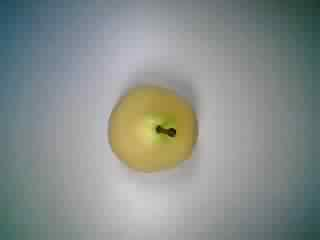pear: (101, 80, 203, 178)
